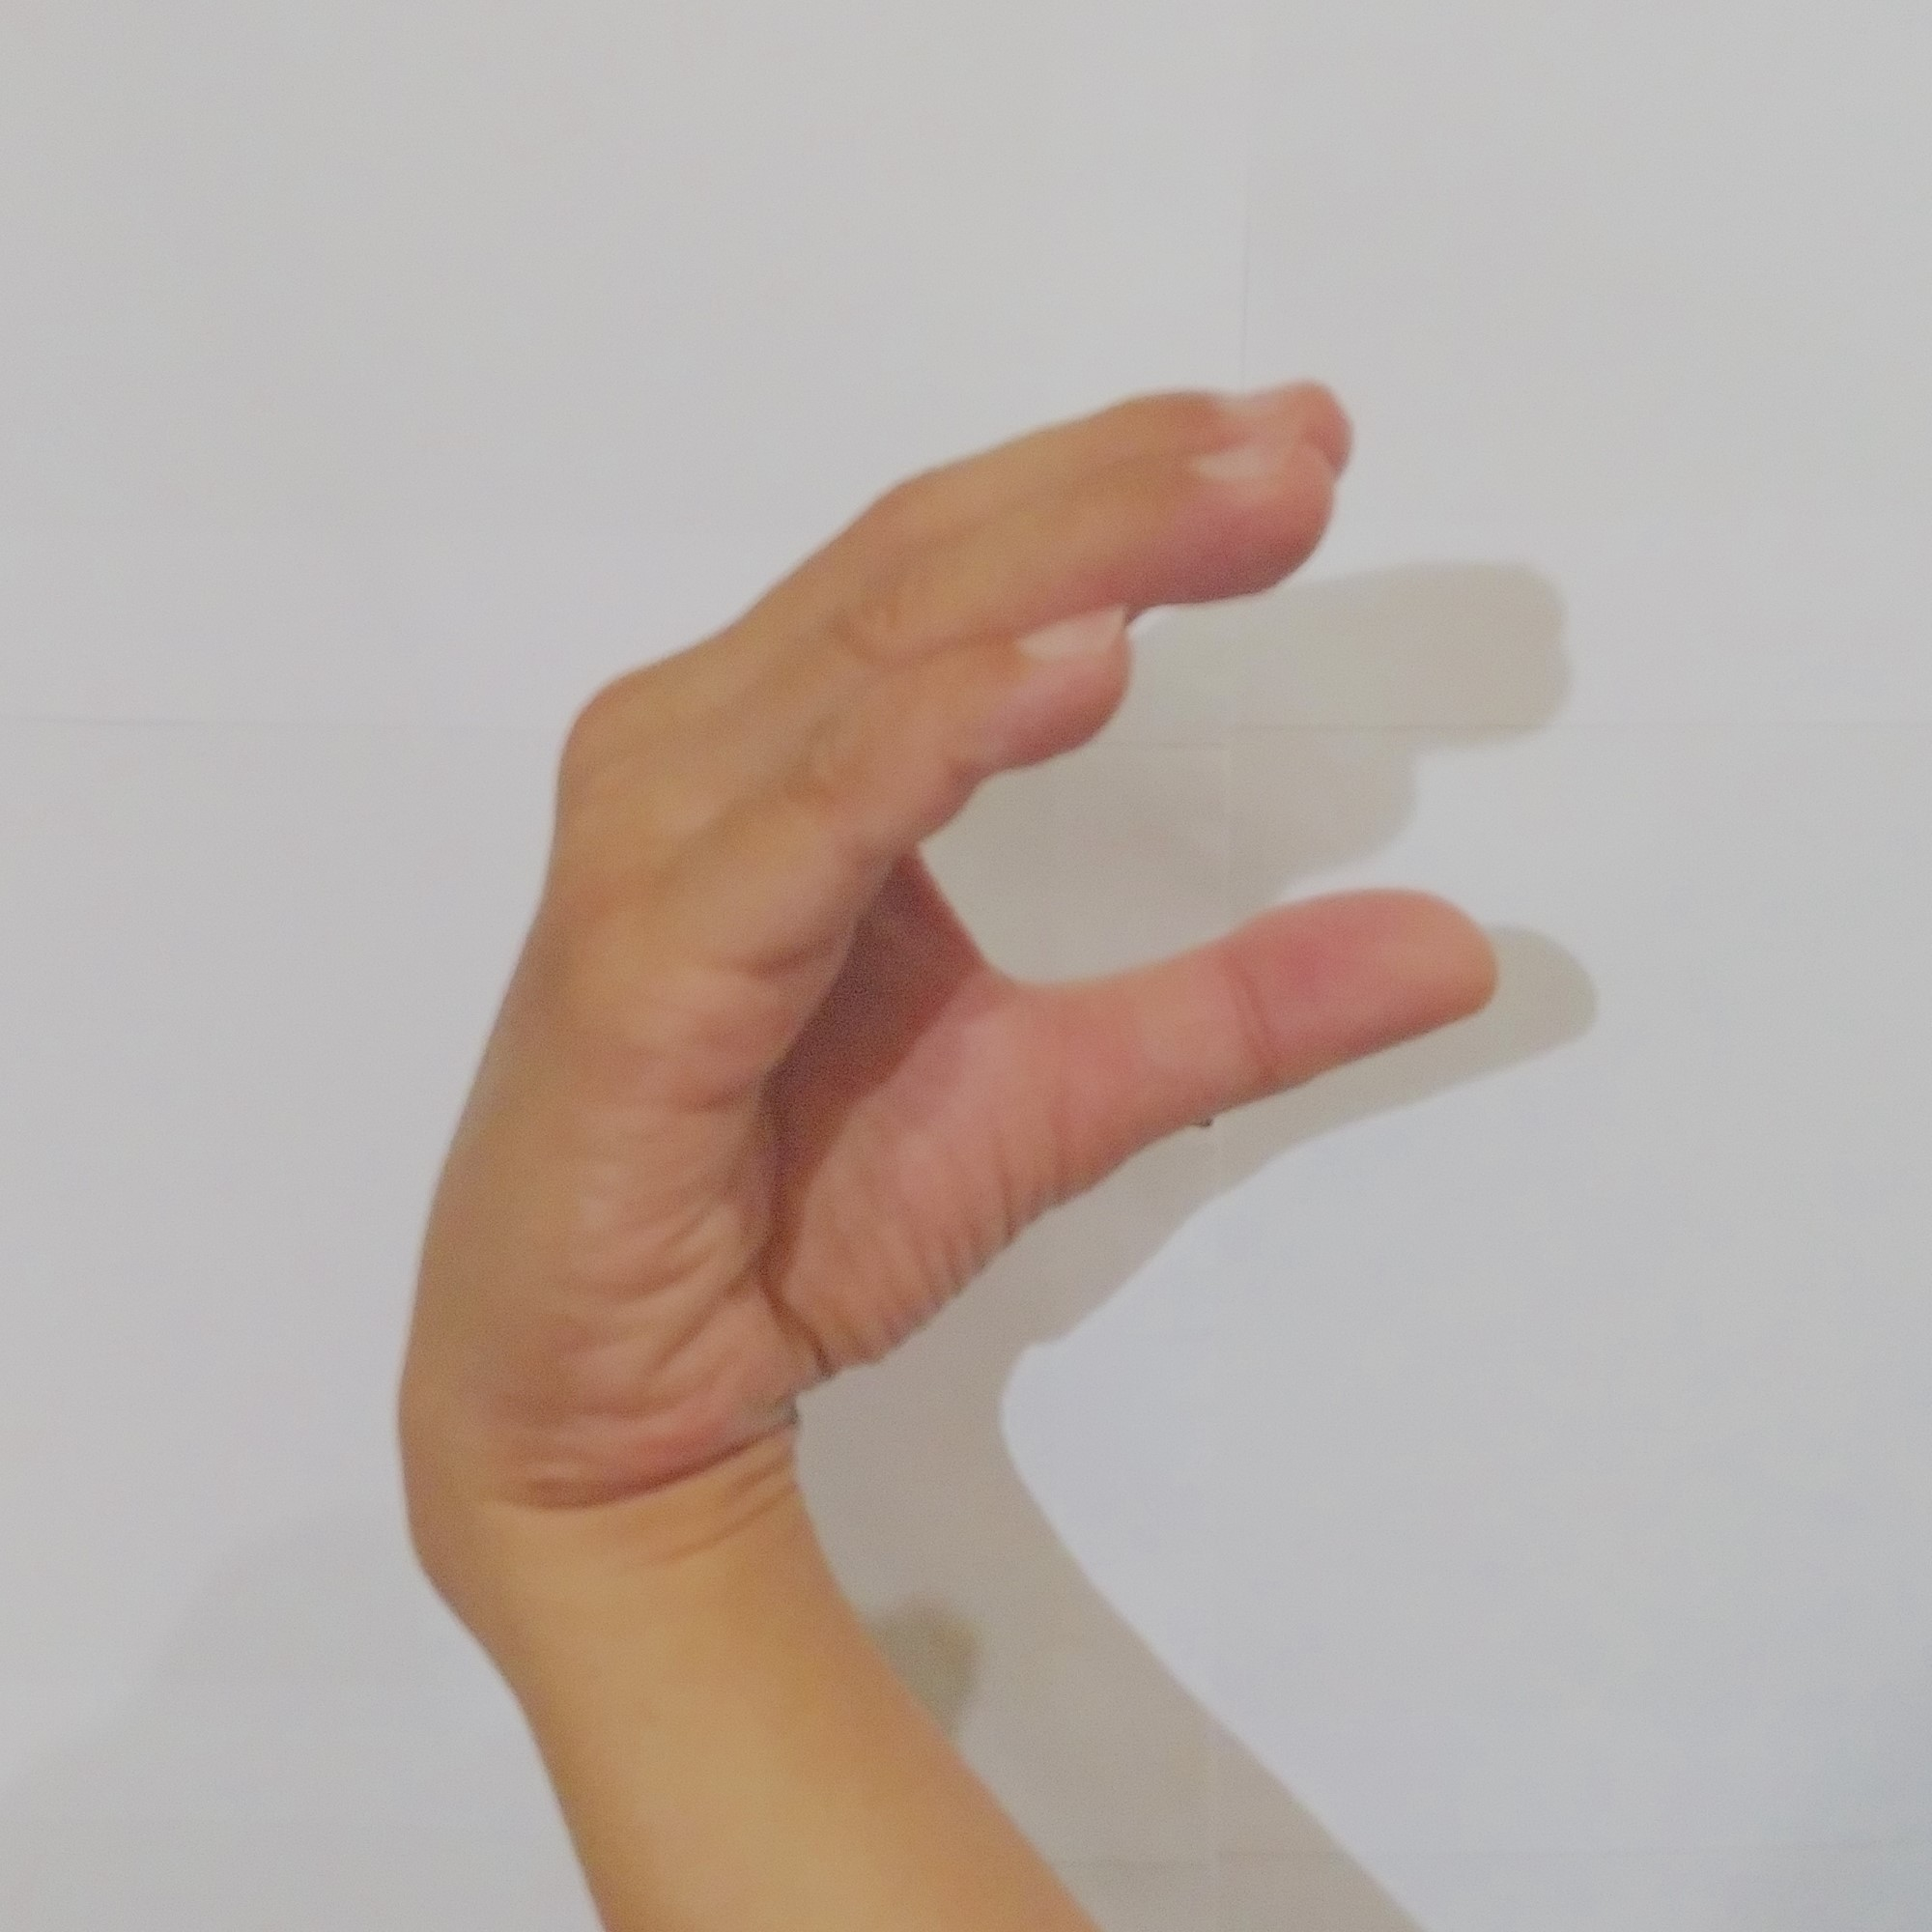C: (400, 356, 1518, 1474)
